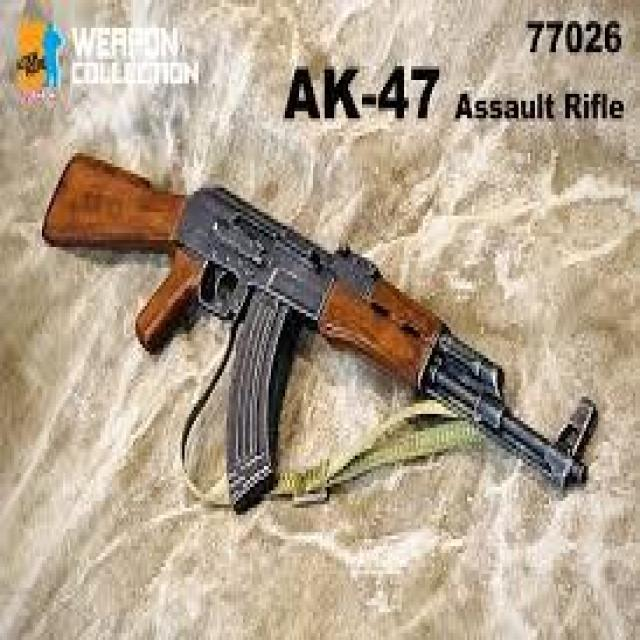rifle: (42, 153, 596, 511)
